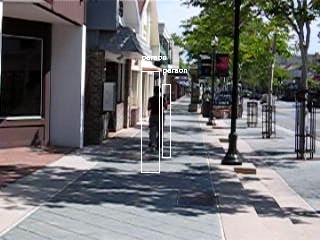person: (147, 87, 169, 153), (146, 87, 168, 153), (148, 87, 170, 153), (147, 86, 169, 152), (147, 88, 169, 154)
target_negative: (76, 46, 234, 190), (62, 53, 202, 184), (92, 135, 173, 212), (61, 114, 213, 145), (141, 44, 166, 86), (211, 228, 282, 238)
